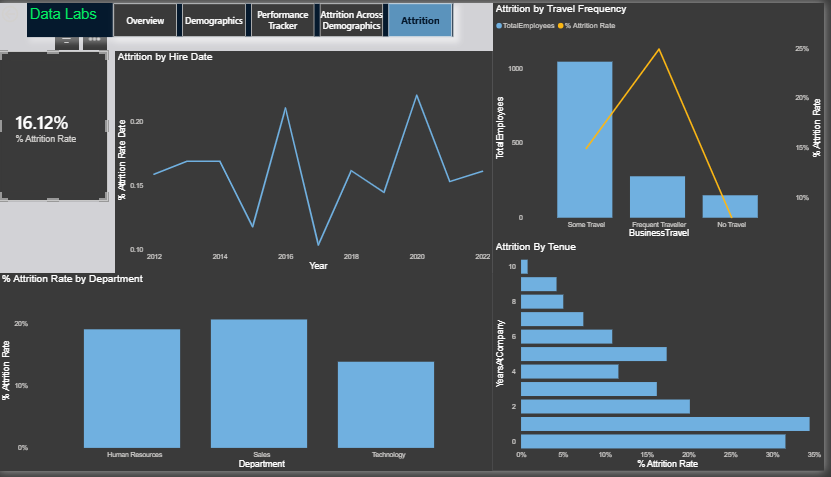

What the dashboard file says about the page in this screenshot:
{"tool":"powerbi","page":{"name":"Attrition","canvas":[1500,850],"ordinal":4},"visuals":[{"type":"cardVisual","fields":{"Data":["_Measures.% Attrition Rate"]},"box":[0,86.7,198.1,273.3],"z":0},{"type":"clusteredColumnChart","fields":{"Y":["_Measures.% Attrition Rate"],"Category":["DimEmployee.Department"],"Series":["DimEmployee.JobRole"]},"box":[0,490.9,898.2,360],"z":1000},{"type":"actionButton","box":[0,0,100,40],"z":2000},{"type":"lineChart","title":"Attrition by Hire Date","fields":{"Y":["_Measures.% Attrition Rate Date"],"Category":["DimDate.Date.Variation.Date Hierarchy.Year","DimDate.Date.Variation.Date Hierarchy.Quarter","DimDate.Date.Variation.Date Hierarchy.Month","DimDate.Date.Variation.Date Hierarchy.Day"]},"box":[210.9,87.3,687.3,403.6],"z":3000},{"type":"lineStackedColumnComboChart","title":"Attrition by Travel Frequency","fields":{"Category":["DimEmployee.BusinessTravel"],"Y":["_Measures.TotalEmployees"],"Y2":["_Measures.% Attrition Rate"]},"box":[898.2,0,601.8,432.7],"z":4000},{"type":"barChart","title":"Attrition By Tenue","fields":{"Y":["_Measures.% Attrition Rate"],"Category":["DimEmployee.YearsAtCompany"]},"box":[898.2,432.7,601.8,418.2],"z":5000},{"type":"textbox","box":[50.4,0,776.1,62.2],"z":6000},{"type":"pageNavigator","box":[206.7,0,618.8,62.2],"z":7000}]}

Visuals, with their boxes in screenshot pixels (x1, y1, x2, y2), scaled from the page's 1500x850 canvas onto the 831x477 screenshot:
cardVisual - _Measures.% Attrition Rate: [0, 49, 110, 202]
clusteredColumnChart - _Measures.% Attrition Rate x DimEmployee.Department: [0, 275, 498, 476]
actionButton: [0, 0, 55, 22]
"Attrition by Hire Date" lineChart: [117, 49, 498, 275]
"Attrition by Travel Frequency" lineStackedColumnComboChart: [498, 0, 830, 243]
"Attrition By Tenue" barChart: [498, 243, 830, 476]
textbox: [28, 0, 458, 35]
pageNavigator: [115, 0, 457, 35]
